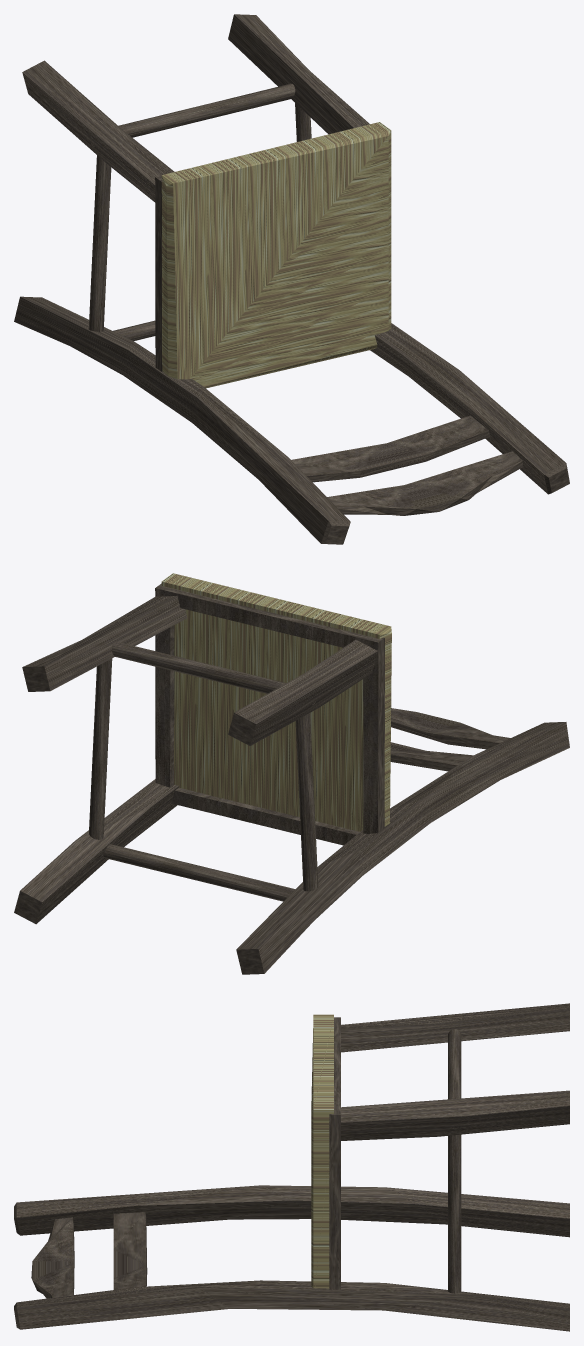
The model's file is chair352_wtf.obj.
3 renders of one model, top to bottom at view 1: azimuth 30°, elevation 25°; view 2: azimuth 150°, elevation 25°; view 3: azimuth 270°, elevation 25°, orthographic. The views are drawn at different scales.
Parts seen in each view (by area): view 1: group3, group4; view 2: group3, group4; view 3: group3, group4.
Part boxes in pixels (box(x1,y1,x2,y2)): group3: box(14, 14, 569, 544); group4: box(161, 122, 391, 388); group3: box(14, 583, 569, 974); group4: box(161, 573, 391, 831); group3: box(14, 1003, 569, 1331); group4: box(311, 1014, 333, 1288).
Size of the model in its own units: 308 by 306 by 660.
